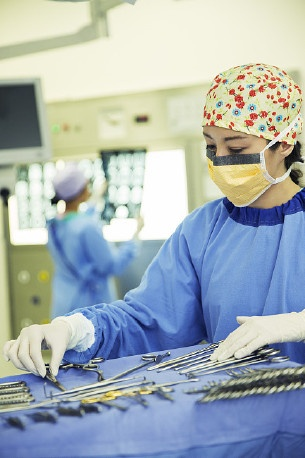Mask: (196, 130, 272, 206)
